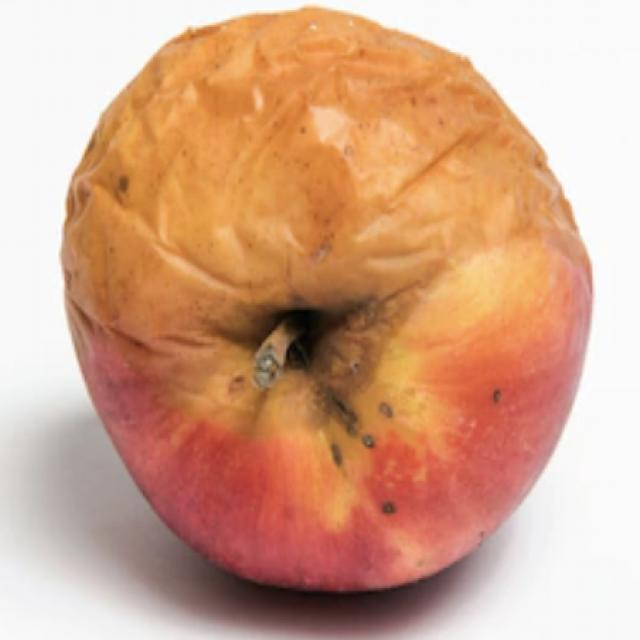Rotten: (77, 32, 563, 600)
